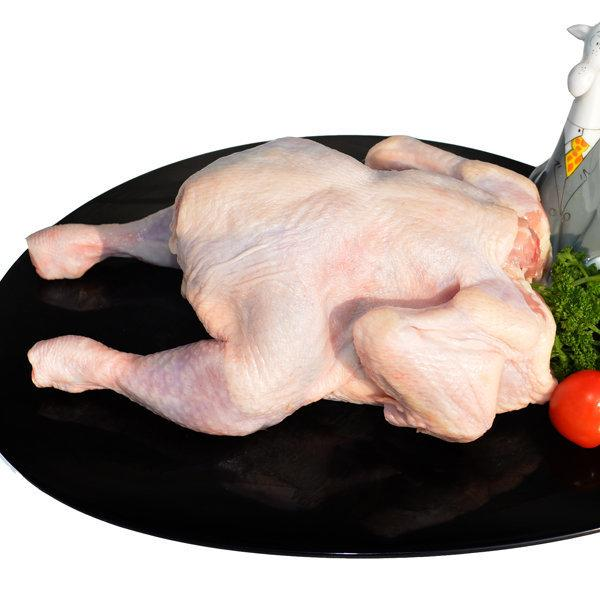chicken: (24, 123, 524, 416)
